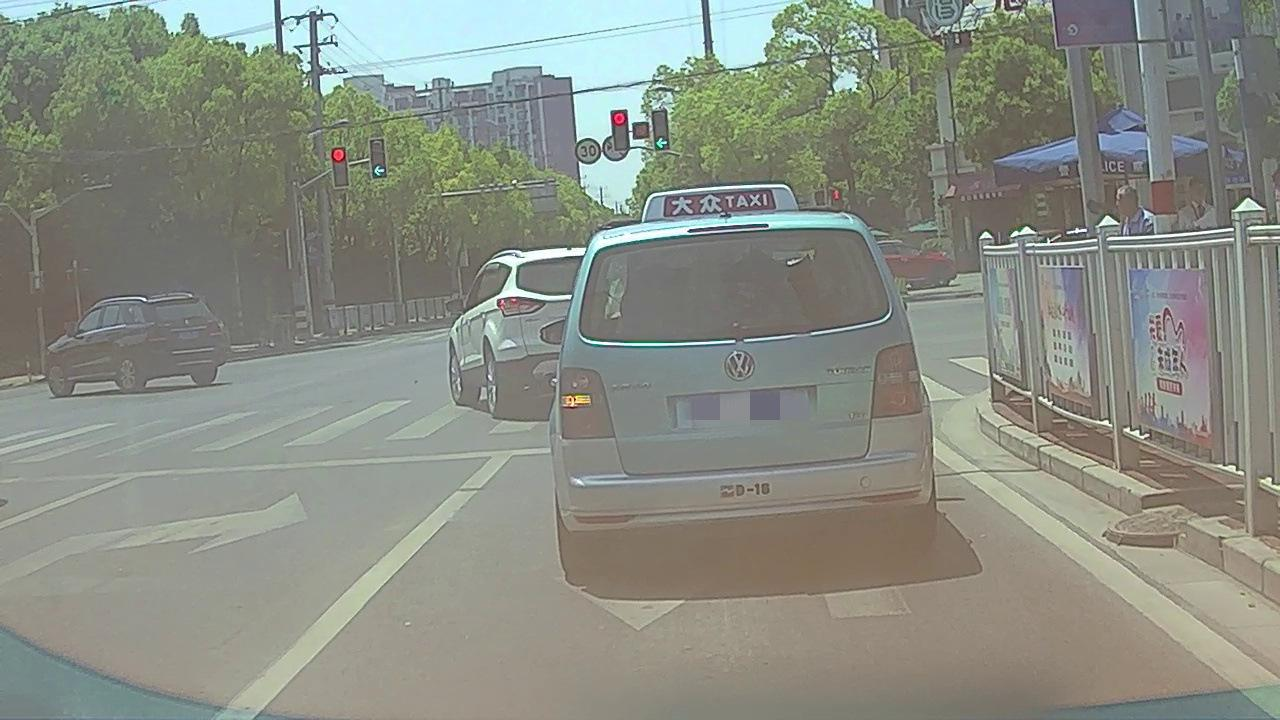traffic_light: (371, 140, 387, 177), (654, 110, 669, 149), (613, 110, 628, 148), (333, 146, 346, 185)
